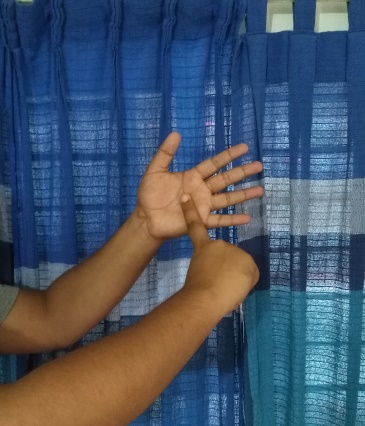oo: (137, 131, 265, 310)
